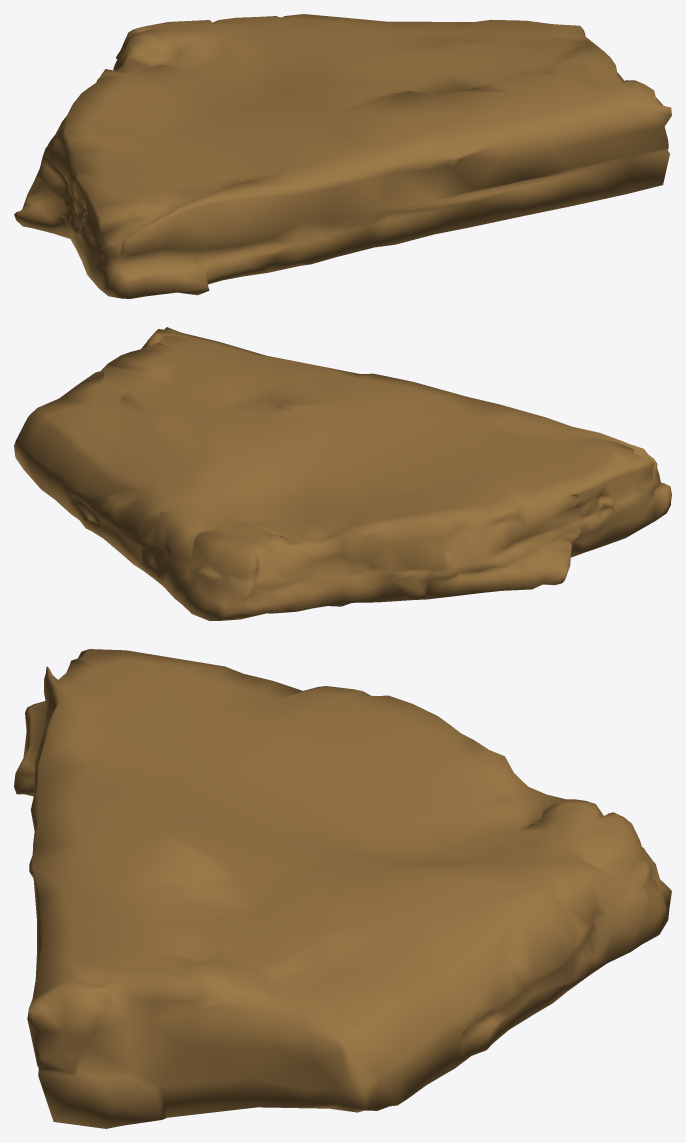
Rendered from MSH_Rocks_Boulder_38.FBX.
3 renders of one model, top to bottom at view 1: azimuth 30°, elevation 25°; view 2: azimuth 150°, elevation 25°; view 3: azimuth 270°, elevation 25°, orthographic. The views are drawn at different scales.
Visible parts, largest first — view 1: MESH_LOD0; view 2: MESH_LOD0; view 3: MESH_LOD0.
Boxes of the visible parts, bbox=[...] form: MESH_LOD0: bbox=[14, 14, 671, 298]; MESH_LOD0: bbox=[14, 327, 671, 620]; MESH_LOD0: bbox=[14, 649, 671, 1128].
Size of what is drawn, in the model's own units: 286 by 46.65 by 207.
